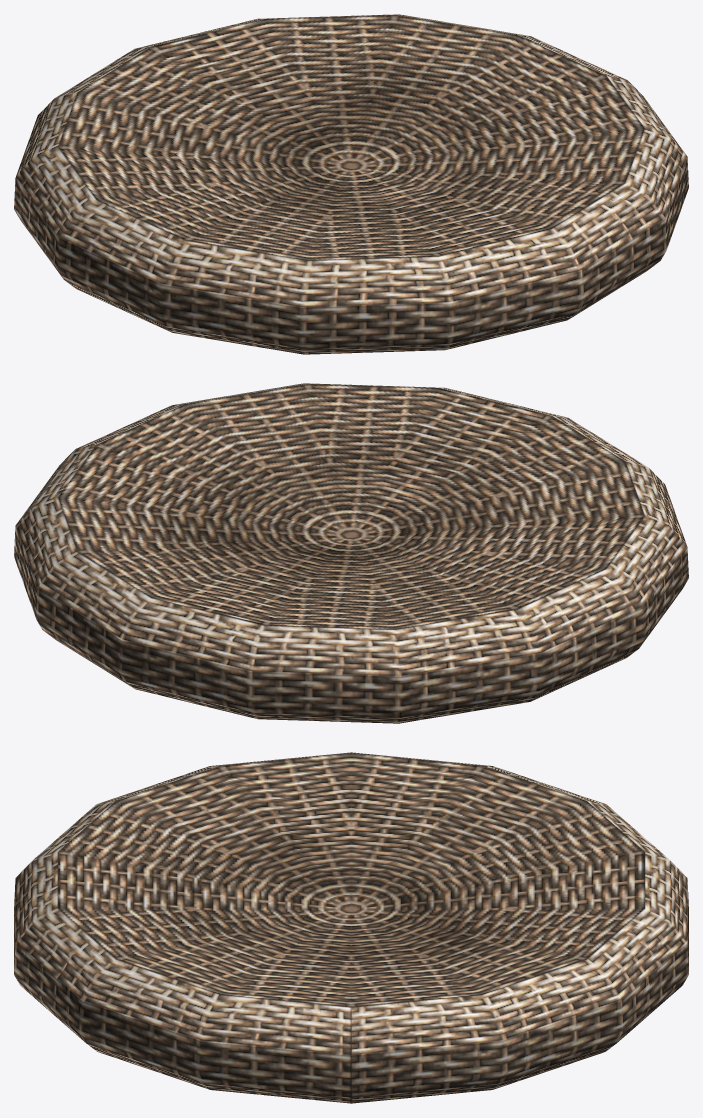
Rendered from basket2_LOD0.FBX.
The picture shows the model from 3 angles, top to bottom: view 1: azimuth 30°, elevation 25°; view 2: azimuth 150°, elevation 25°; view 3: azimuth 270°, elevation 25°; orthographic projection. The views are drawn at different scales.
Parts seen in each view (by area): view 1: basket2_LOD0; view 2: basket2_LOD0; view 3: basket2_LOD0.
Part boxes in pixels (x1,y1,x2,y2): basket2_LOD0: [14, 14, 688, 354]; basket2_LOD0: [14, 383, 688, 723]; basket2_LOD0: [14, 752, 688, 1103].
Bounding box in the file's own units: 51.46 × 7.05 × 50.17.
